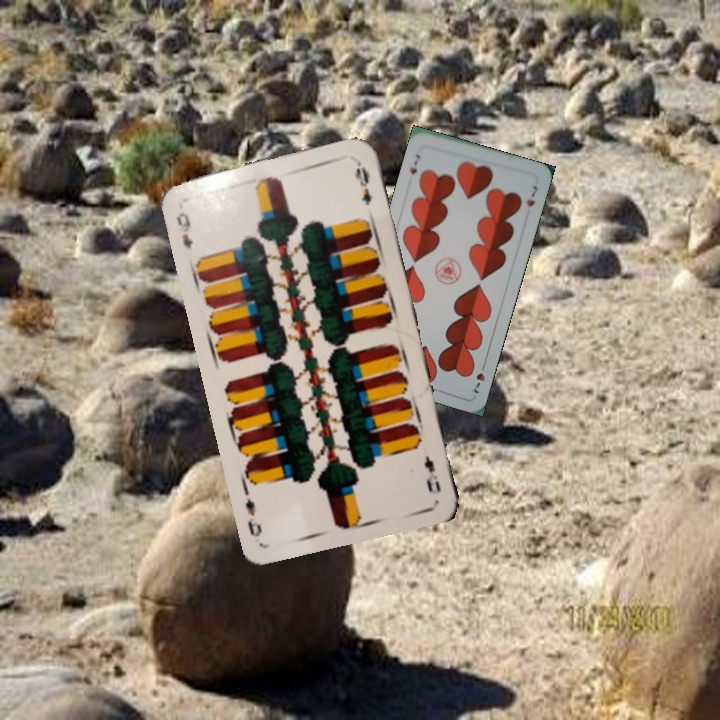E9: (172, 208, 196, 251), (420, 451, 443, 495)
H7: (469, 358, 489, 396), (406, 150, 423, 177)
